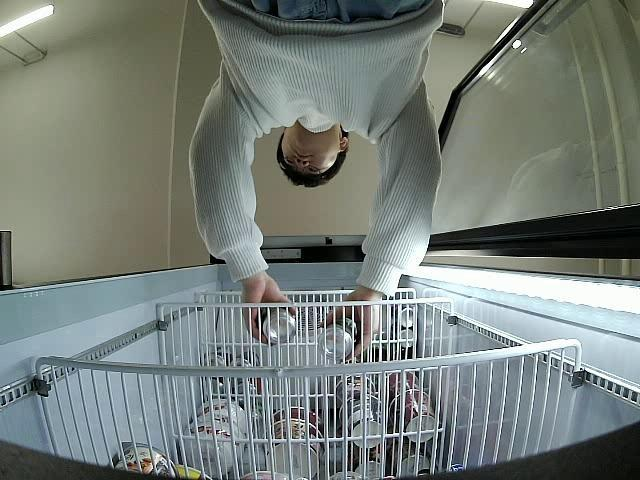12_chilsungCider: (260, 300, 296, 344), (320, 320, 358, 360)
